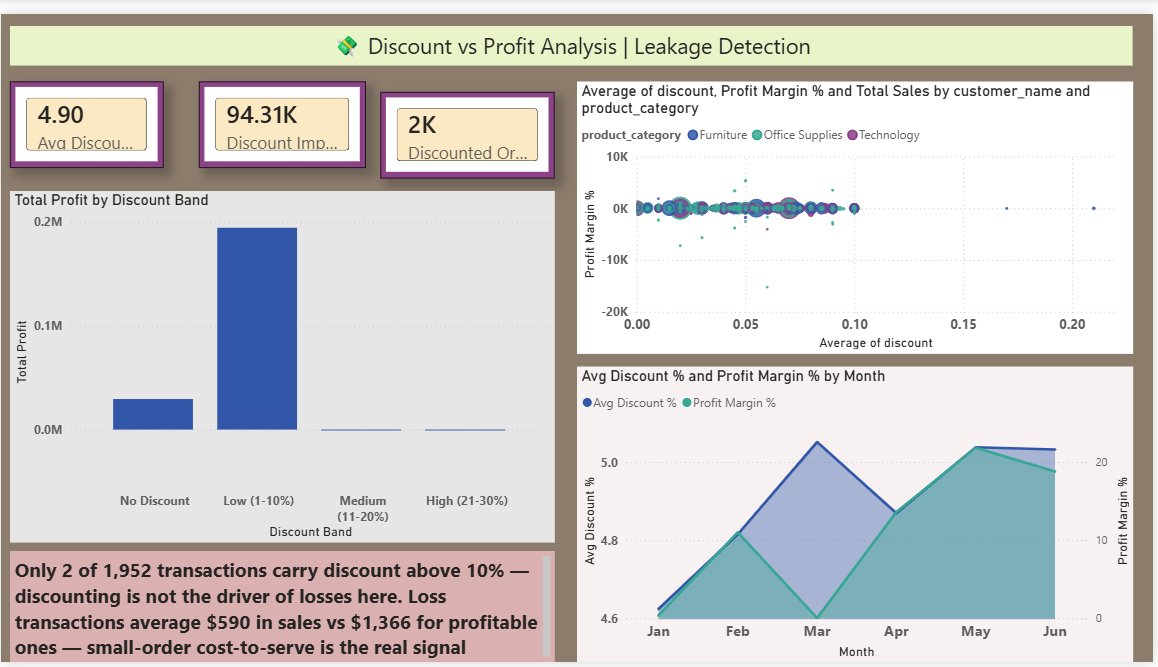

This screenshot's page, from the dashboard's own definition file:
{"tool":"powerbi","page":{"name":"Discount vs Profit","canvas":[1280,720],"ordinal":2},"visuals":[{"type":"cardVisual","fields":{"Data":["_Measures.Avg Discount %"]},"box":[9.8,74.8,170.8,96],"z":0},{"type":"cardVisual","fields":{"Data":["_Measures.Discount Impact"]},"box":[219.6,74.8,185.4,96],"z":1000},{"type":"scatterChart","fields":{"X":["Avg(SuperStoreUs_data.discount)"],"Series":["SuperStoreUs_data.product_category"],"Size":["_Measures.Total Sales"],"Y":["_Measures.Profit Margin %"],"Category":["SuperStoreUs_data.customer_name"]},"box":[639.2,74.8,618.1,302.5],"z":2000},{"type":"cardVisual","fields":{"Data":["_Measures.Discounted Orders"]},"box":[421.3,86.2,193.6,96],"z":3000},{"type":"clusteredColumnChart","fields":{"Category":["SuperStoreUs_data.Discount Band"],"Y":["_Measures.Total Profit"]},"box":[9.8,196.8,605.1,390.4],"z":4000},{"type":"areaChart","fields":{"Category":["DateTable.Month"],"Y":["_Measures.Avg Discount %"],"Y2":["_Measures.Profit Margin %"]},"box":[639.2,392,618.1,328.6],"z":5000},{"type":"textbox","box":[9.8,596.9,605.1,123.6],"z":6000},{"type":"textbox","box":[9.8,13,1247.6,43.9],"z":6001}]}

Visuals, with their boxes in screenshot pixels (x1, y1, x2, y2), scaled from the page's 1280x720 canvas onto the 1158x667 screenshot:
cardVisual - _Measures.Avg Discount %: 9/69/163/158
cardVisual - _Measures.Discount Impact: 199/69/366/158
scatterChart - Avg(SuperStoreUs_data.discount) x SuperStoreUs_data.product_category: 578/69/1137/350
cardVisual - _Measures.Discounted Orders: 381/80/556/169
clusteredColumnChart - SuperStoreUs_data.Discount Band x _Measures.Total Profit: 9/182/556/544
areaChart - DateTable.Month x _Measures.Avg Discount %: 578/363/1137/666
textbox: 9/553/556/666
textbox: 9/12/1138/53
